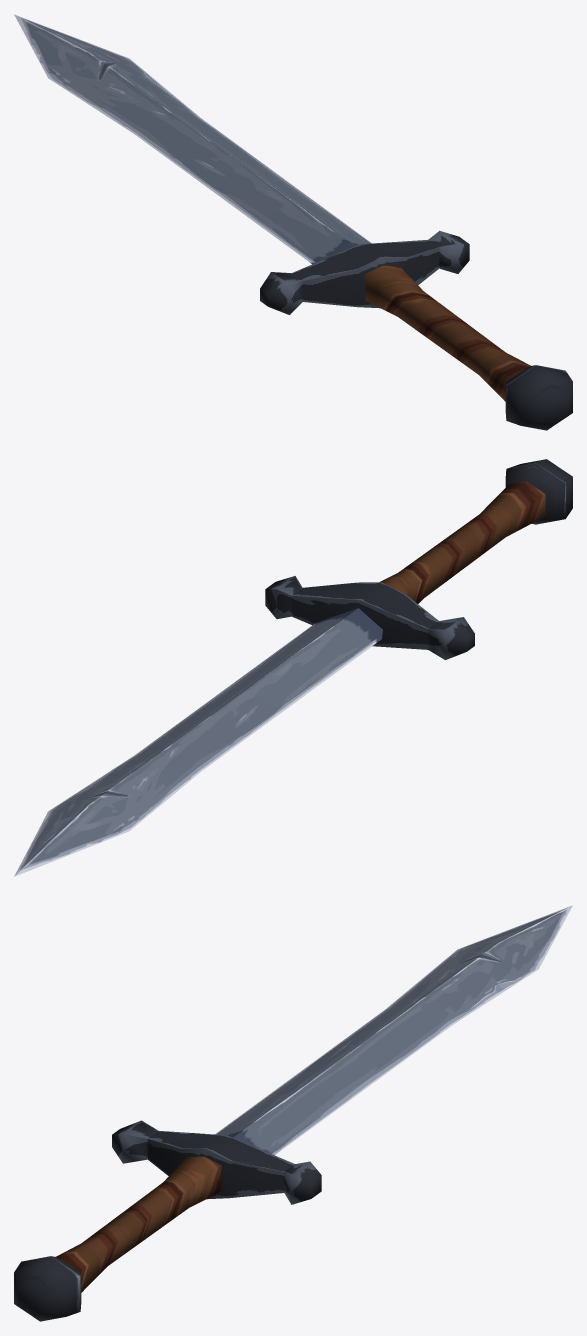
File: SM_PROP_weapon_sword_dungeon_01.fbx
3 renders of one model, top to bottom at view 1: azimuth 30°, elevation 25°; view 2: azimuth 150°, elevation 25°; view 3: azimuth 330°, elevation 25°, orthographic.
Parts seen in each view (by area): view 1: SM_PROP_weapon_sword_dungeon_01; view 2: SM_PROP_weapon_sword_dungeon_01; view 3: SM_PROP_weapon_sword_dungeon_01.
Part boxes in pixels (x1,y1,x2,y2): SM_PROP_weapon_sword_dungeon_01: (14, 14, 572, 430); SM_PROP_weapon_sword_dungeon_01: (14, 459, 572, 876); SM_PROP_weapon_sword_dungeon_01: (14, 905, 572, 1321).
Size of the model in its own units: 25.67 by 7.5 by 120.
